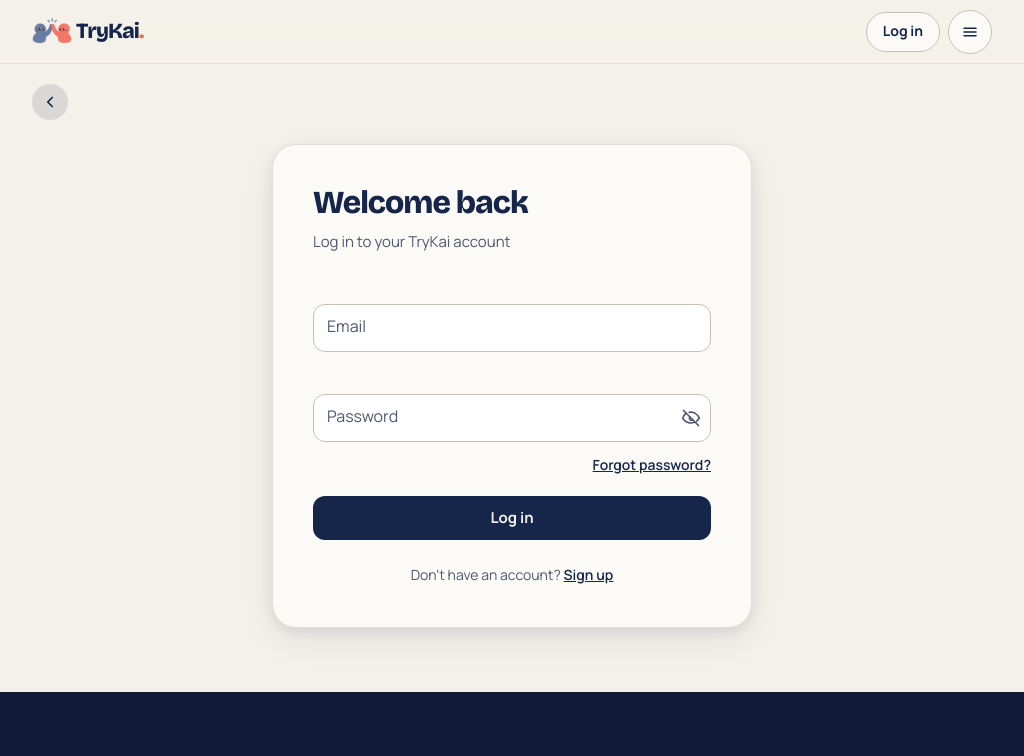
Test: App routes › goes Home from back when there is no in-app previous page
This screenshot has width=1024, height=756.
Click the button named "Back" at (50, 102), box [32, 84, 68, 120]
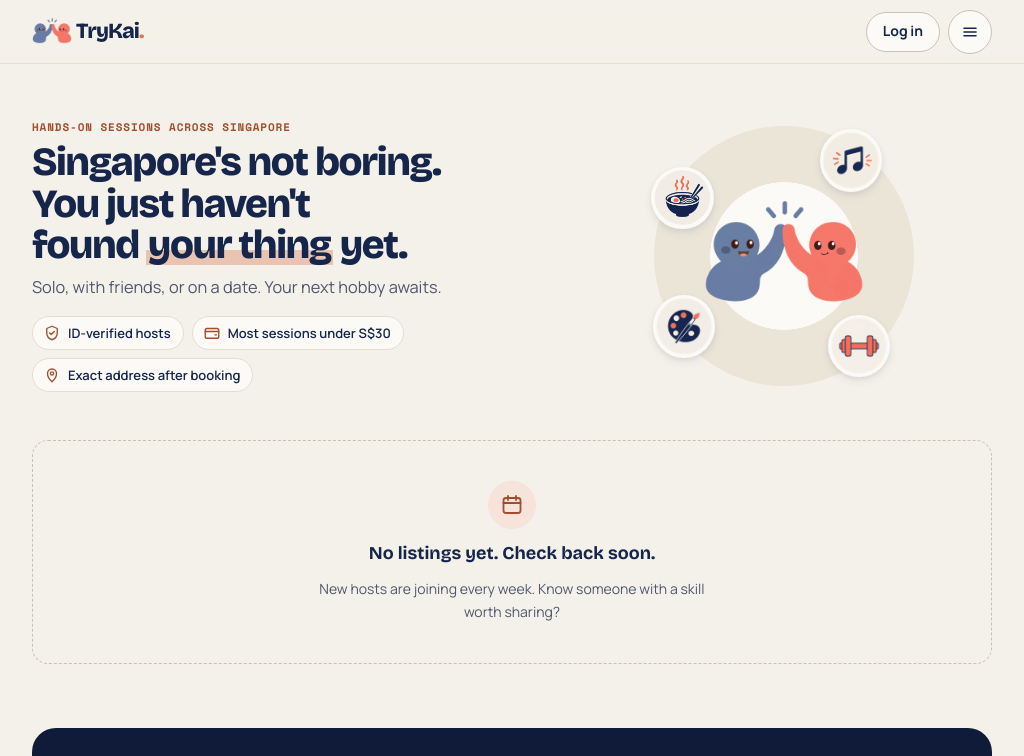
Now the heading "Singapore's not boring. You just haven't found your thing yet." is shown, box [32, 138, 440, 270]
